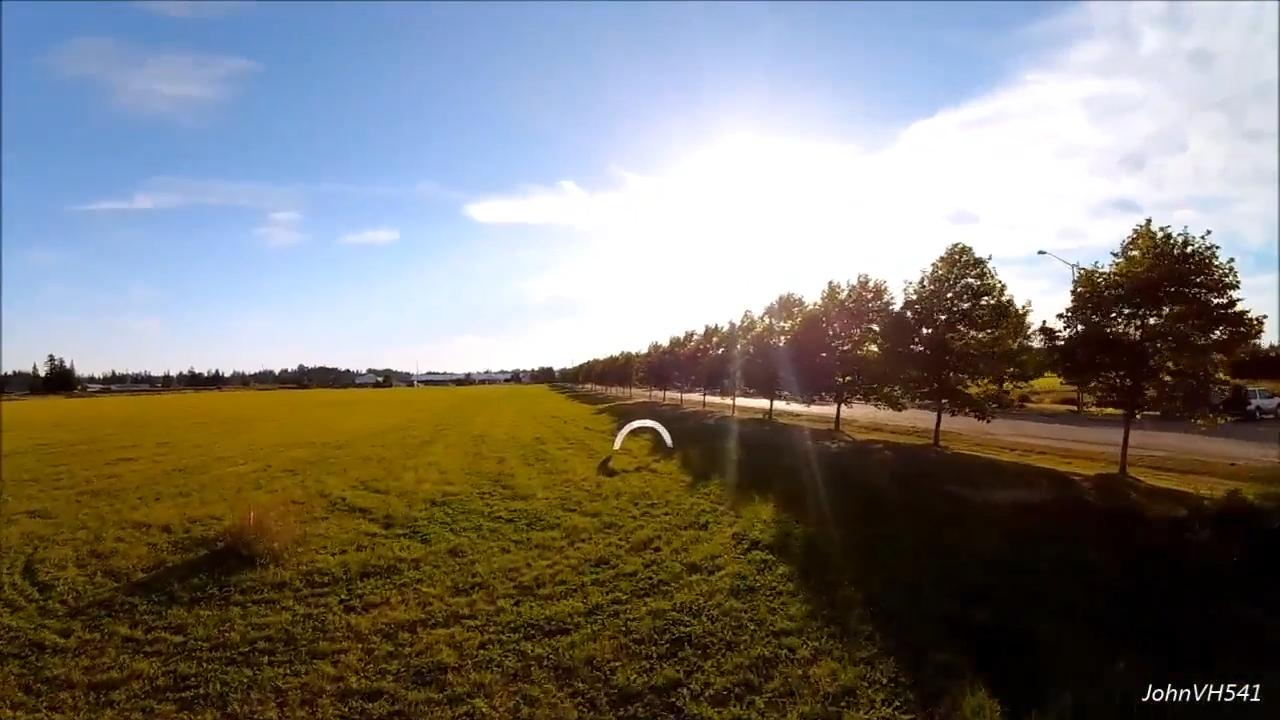gate: (609, 419, 676, 451)
